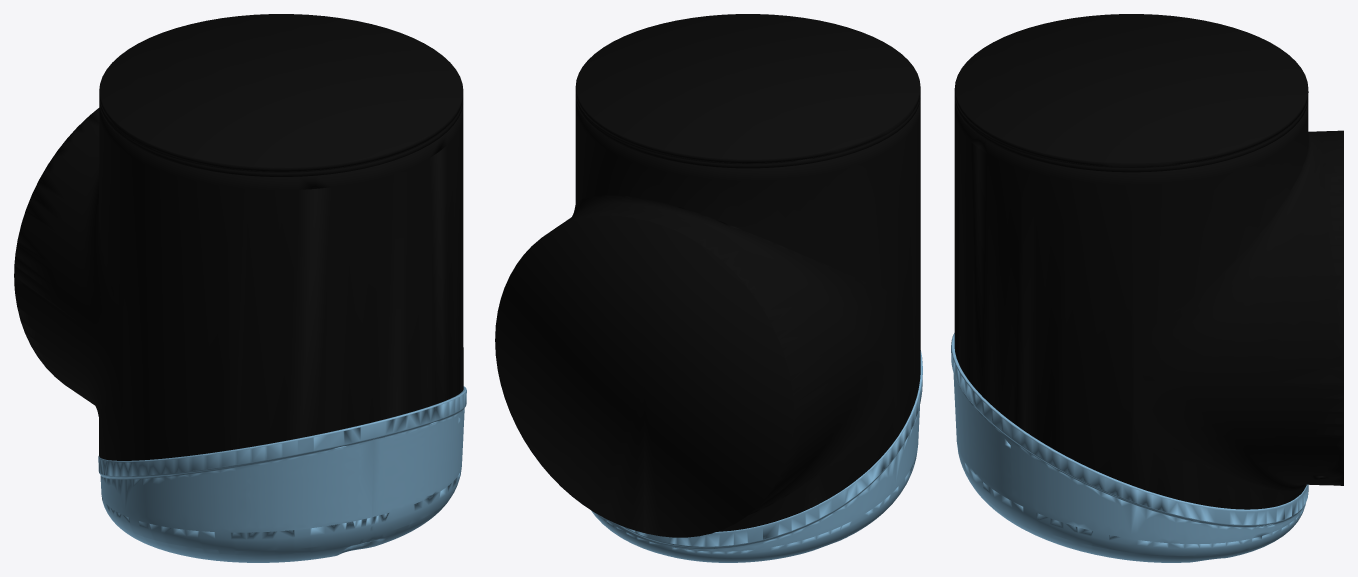
The model's file is wrist2.obj.
3 views of the same model, side by side, from view 1: azimuth 30°, elevation 25°; view 2: azimuth 150°, elevation 25°; view 3: azimuth 270°, elevation 25° (orthographic). The views are drawn at different scales.
Visible parts, largest first — view 1: shape0_002-mesh, shape1_002-mesh; view 2: shape0_002-mesh, shape1_002-mesh; view 3: shape0_002-mesh, shape1_002-mesh.
Boxes of the visible parts, box(x1,y1,x2,y2) form: shape0_002-mesh: box(14, 14, 463, 460); shape1_002-mesh: box(98, 386, 466, 562); shape0_002-mesh: box(495, 14, 920, 537); shape1_002-mesh: box(591, 350, 922, 562); shape0_002-mesh: box(954, 14, 1343, 509); shape1_002-mesh: box(951, 333, 1308, 562).
Size of the model in its own units: 0.091 by 0.1188 by 0.0999.
